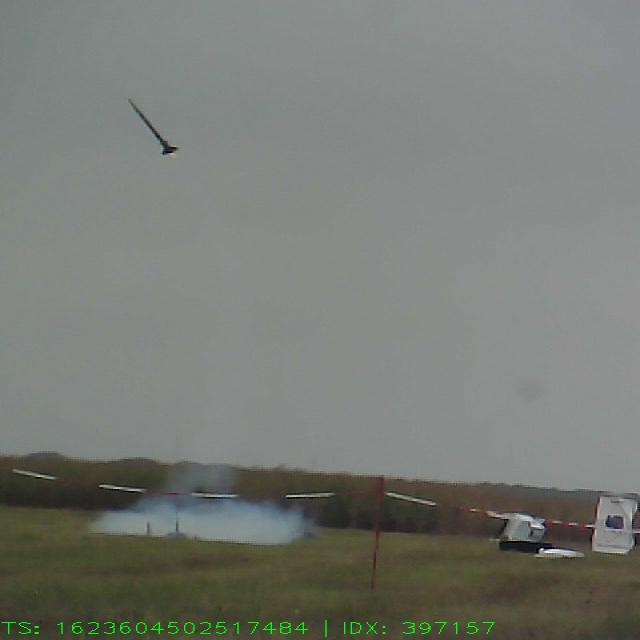Rocket: (128, 98, 180, 156)
